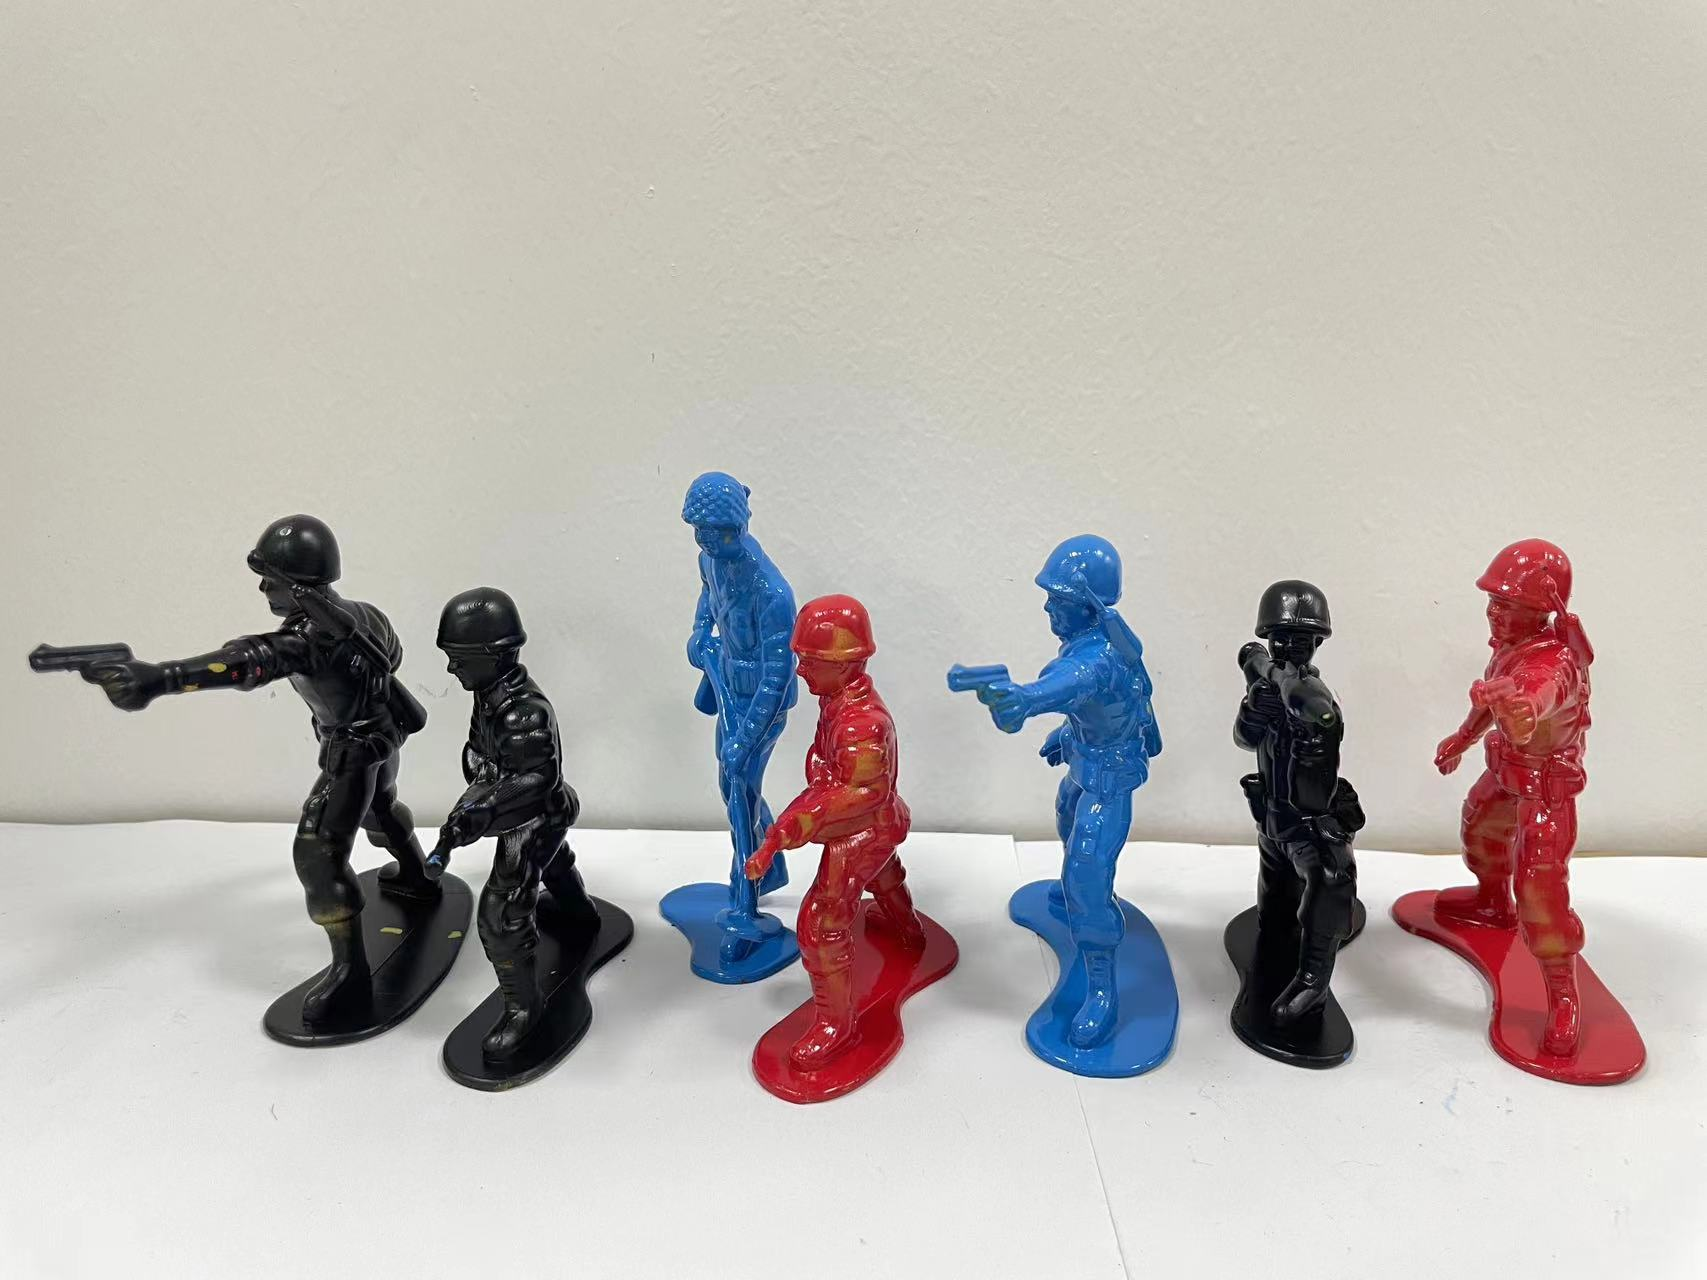black: (31, 489, 448, 1128), (423, 567, 640, 1137), (1224, 549, 1380, 1107)
blue: (948, 515, 1219, 1107), (637, 440, 798, 991)
red: (1388, 518, 1679, 1115), (793, 579, 970, 1146)
